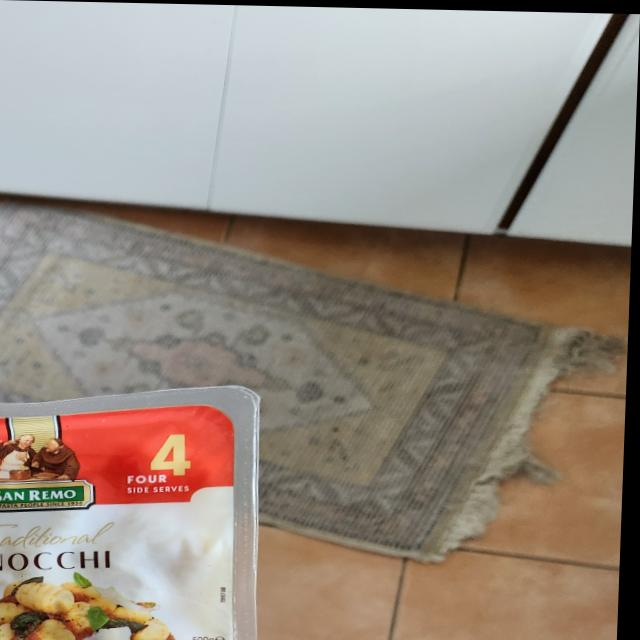gnocchi: (0, 379, 285, 640)
